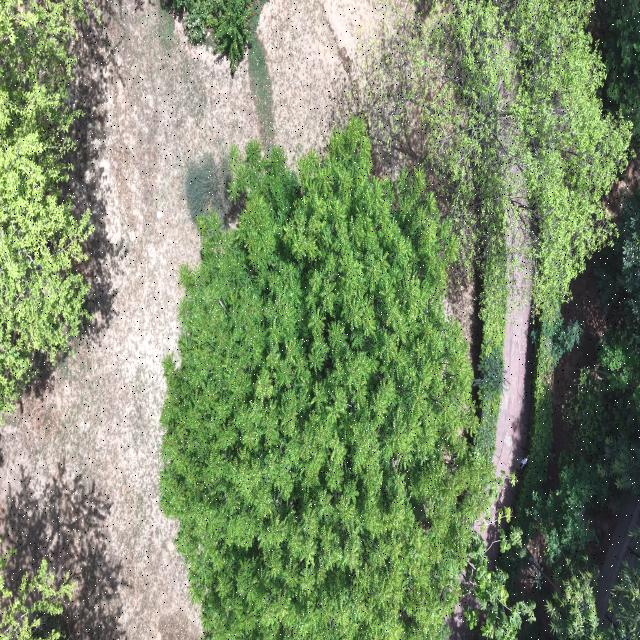DRY_AREA: (0, 0, 263, 639), (0, 0, 259, 639), (476, 216, 533, 563), (548, 254, 620, 486), (550, 264, 606, 473), (493, 259, 532, 478), (493, 269, 532, 478)
VEGETATION_TREE: (161, 0, 639, 639), (161, 0, 639, 638), (161, 120, 493, 638), (363, 0, 631, 612), (361, 0, 631, 430), (363, 0, 631, 314), (362, 2, 515, 459), (519, 196, 639, 639), (519, 197, 639, 639), (519, 155, 615, 578), (361, 0, 512, 261), (0, 0, 92, 414), (514, 0, 631, 324), (568, 196, 639, 493), (168, 0, 273, 146), (519, 303, 581, 535), (576, 334, 639, 493), (528, 458, 605, 565), (518, 319, 553, 536), (463, 535, 535, 639), (546, 561, 639, 639), (475, 245, 507, 459), (170, 0, 258, 74), (0, 556, 74, 639), (601, 0, 639, 141), (248, 0, 274, 150), (547, 572, 602, 639), (185, 154, 230, 220), (606, 561, 639, 639), (619, 194, 639, 321), (540, 314, 582, 367)
